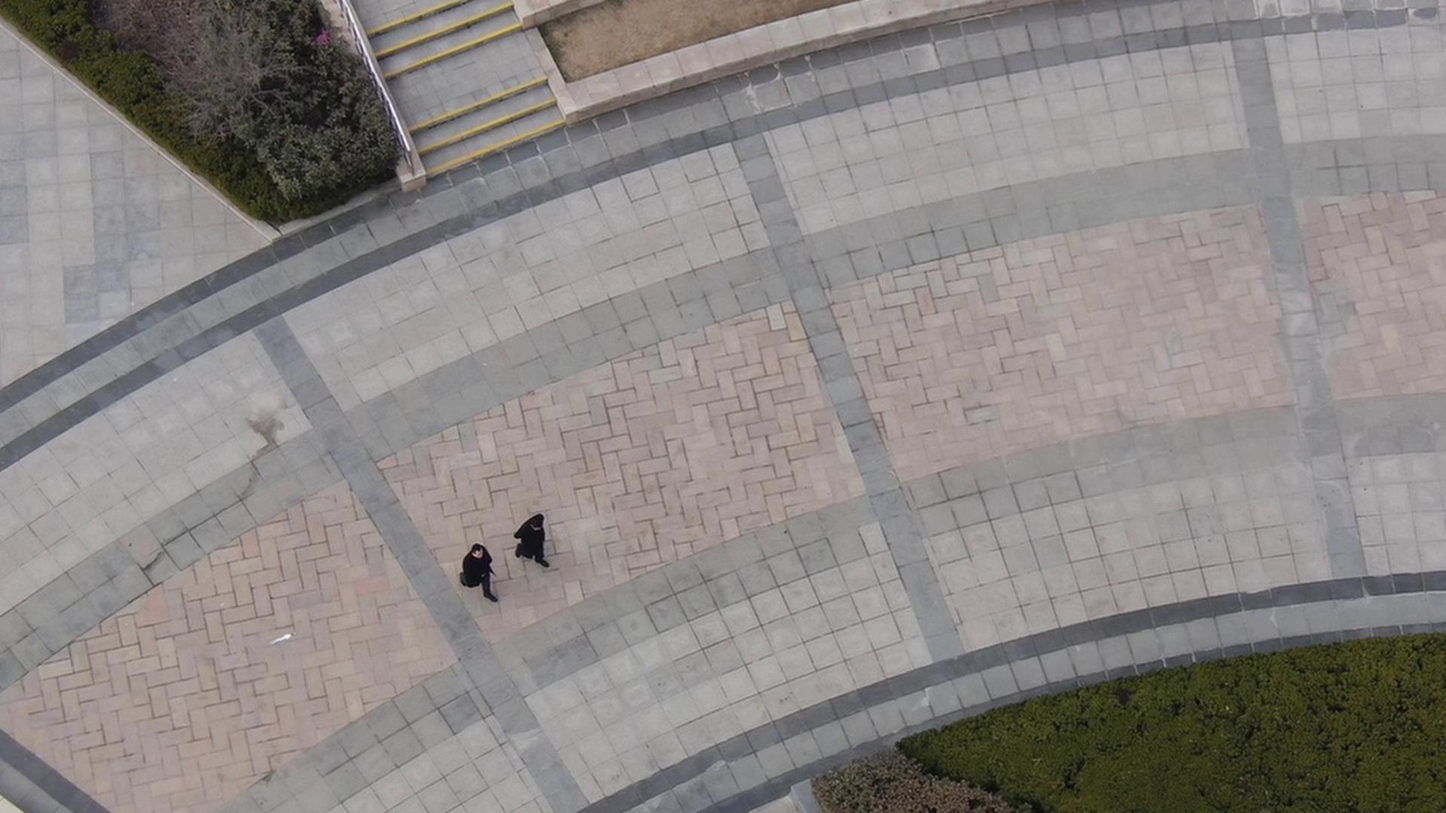human: (509, 501, 560, 569), (459, 535, 505, 607)
